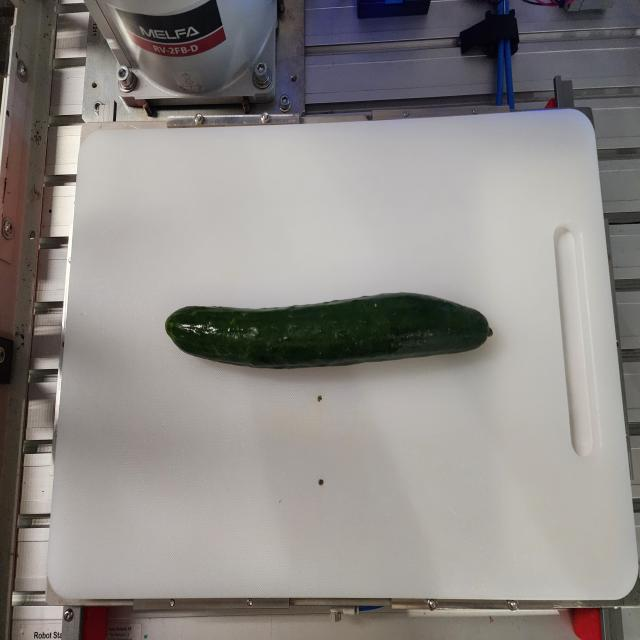cucumber: (164, 291, 493, 368)
